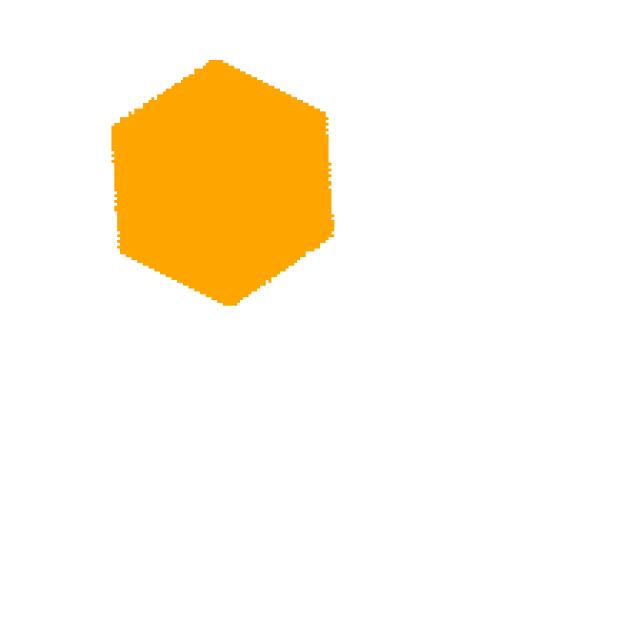Hexagon: (80, 30, 437, 323)
